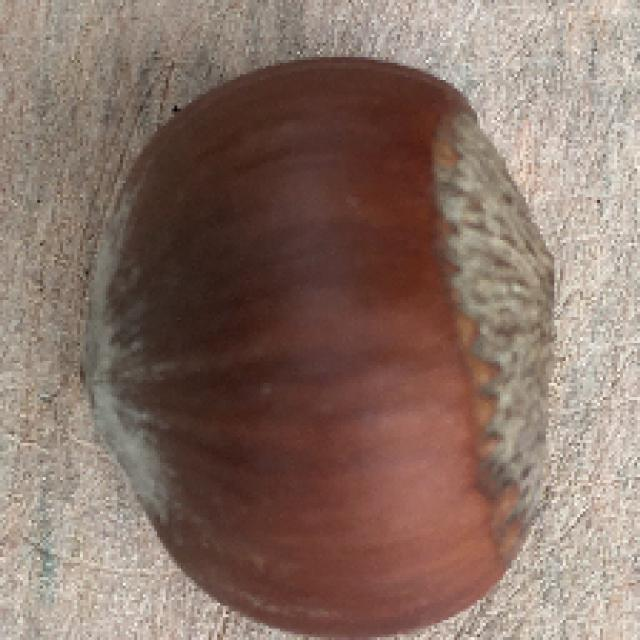qualityHazelnut: (70, 44, 554, 640)
